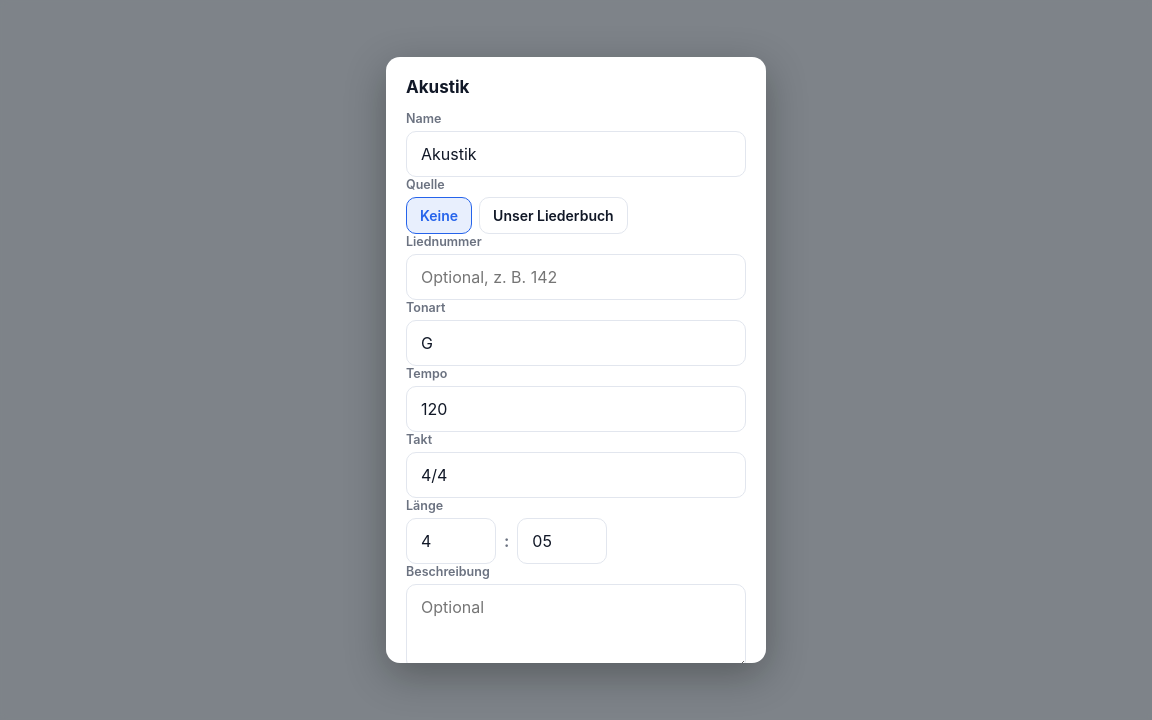
ArrangementSheet – Quelle und Liednummer › sperrt bei einer Liednummer ohne Quelle und sagt, warum
This screenshot has width=1152, height=720.
Type "142" into the field with placeholder "Optional, z. B. 142". click: [576, 277]
box: [406, 254, 746, 300]
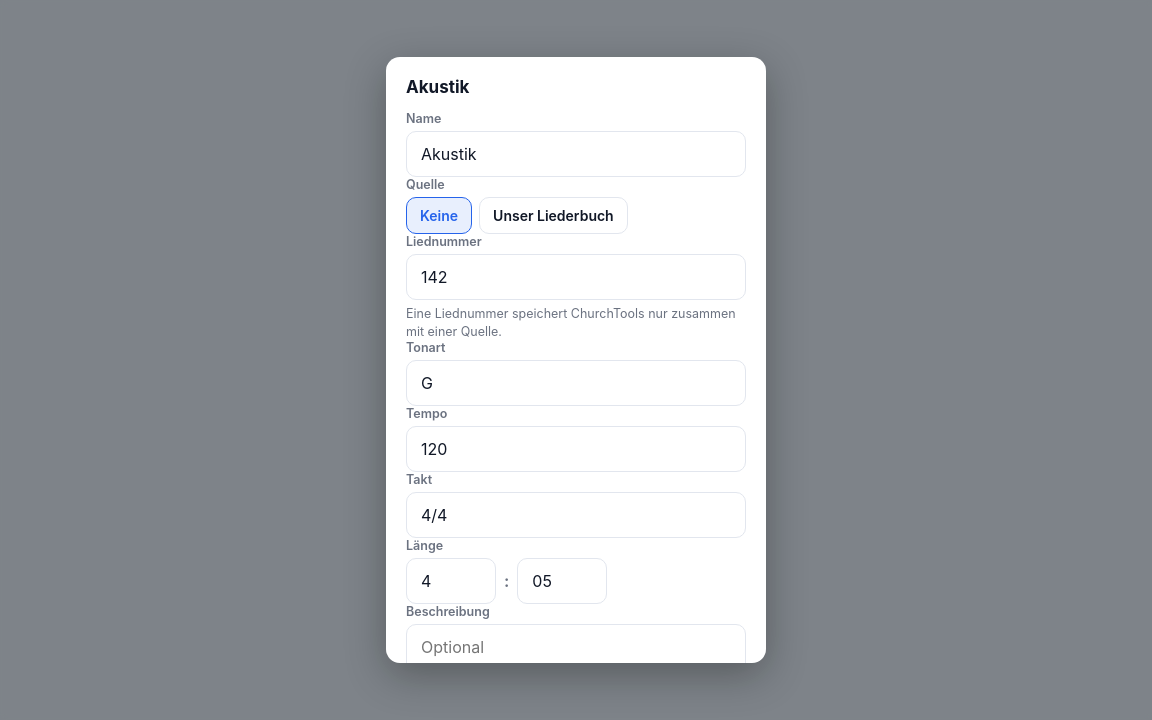
Now the text "nur zusammen mit einer Quelle" is shown, box [406, 306, 736, 339]
